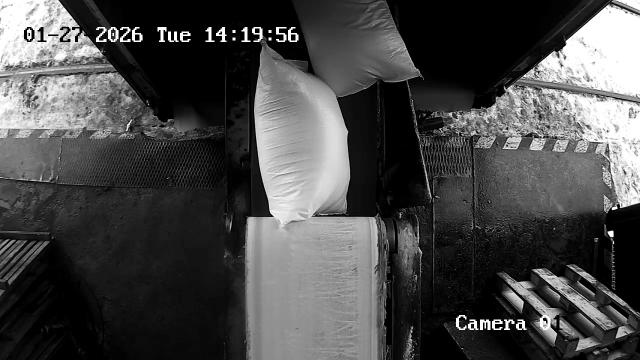bag: (255, 38, 350, 228), (292, 0, 421, 95)
